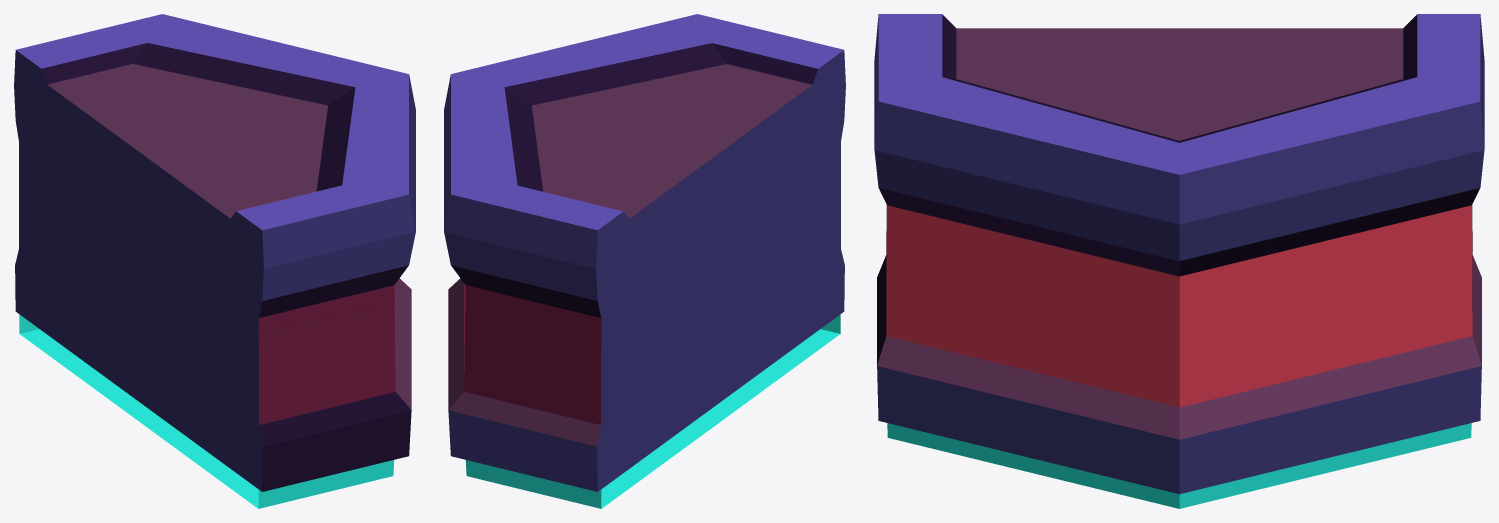
Rendered from barra_02.FBX.
The picture shows the model from 3 angles, left to right: view 1: azimuth 30°, elevation 25°; view 2: azimuth 150°, elevation 25°; view 3: azimuth 270°, elevation 25°; orthographic projection. The views are drawn at different scales.
Visible parts, largest first — view 1: Cylinder007; view 2: Cylinder007; view 3: Cylinder007.
Boxes of the visible parts, box(x1,y1,x2,y2) form: Cylinder007: box(14, 14, 415, 508); Cylinder007: box(444, 14, 845, 508); Cylinder007: box(874, 14, 1484, 508).
Size of the model in its own units: 22.47 by 21.81 by 35.1.
